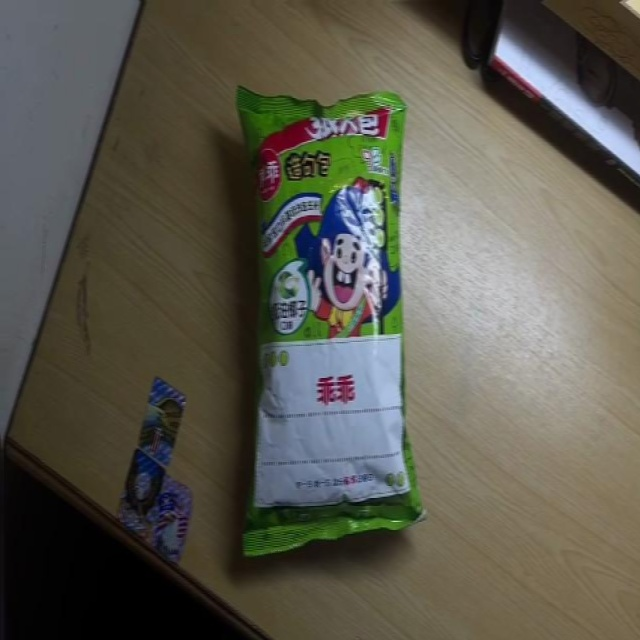Good-Luck: (234, 80, 426, 553)
